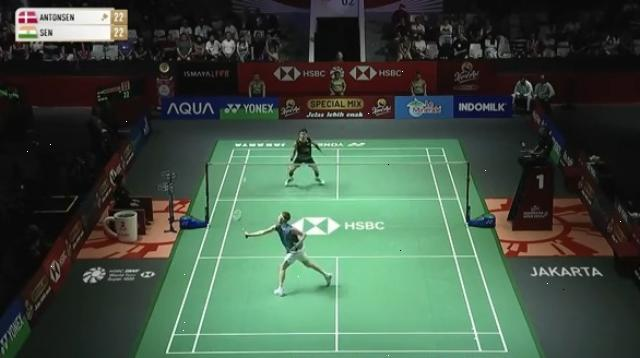Shuttlecock: (242, 175, 250, 185)
